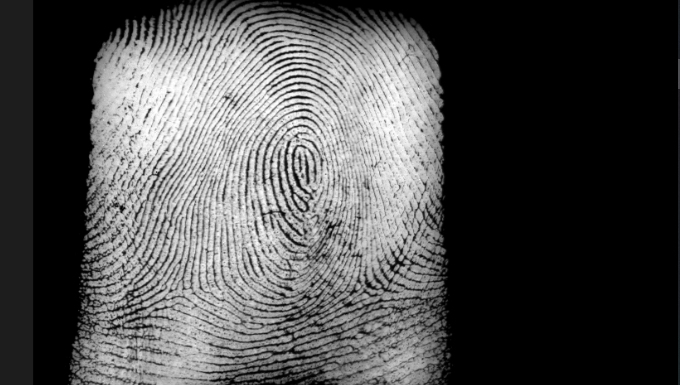nucelo: (291, 148, 310, 185)
verticilo: (349, 277, 378, 297), (168, 279, 190, 301)
